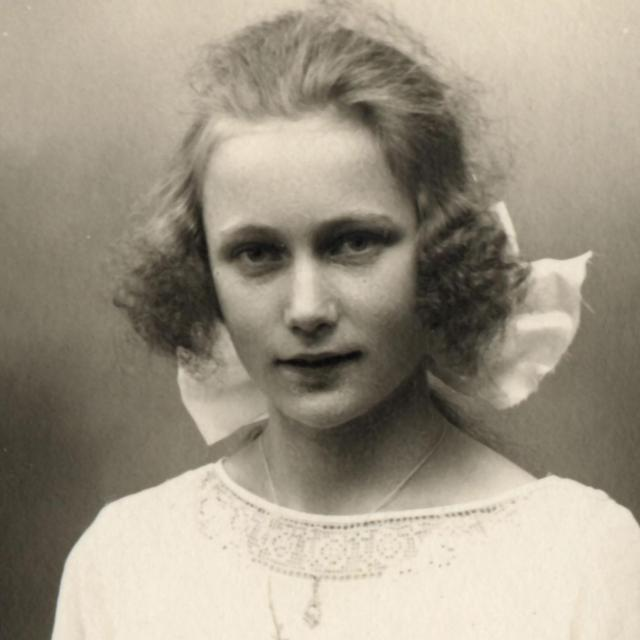no-glass: (231, 228, 390, 277)
